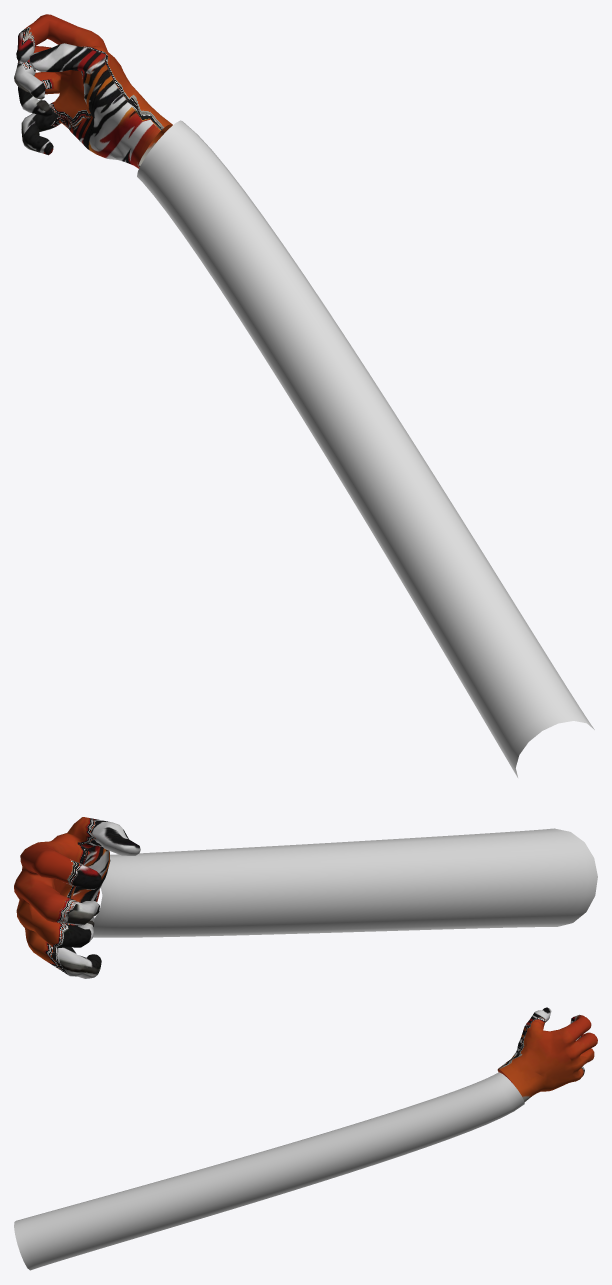
File: fpa_fiveseven.glb
3 views of the same model, one above another, from view 1: azimuth 30°, elevation 25°; view 2: azimuth 150°, elevation 25°; view 3: azimuth 270°, elevation 25° (orthographic). The views are drawn at different scales.
Visible parts, largest first — view 1: arms, hands; view 2: arms, hands; view 3: arms, hands.
Boxes of the visible parts, x1,y1,x2,y2 form: arms: (137,120,594,777); hands: (14,14,172,168); arms: (93,828,597,937); hands: (14,817,140,978); arms: (14,1072,524,1270); hands: (497,1007,597,1101).
Size of the model in its own units: 0.1834 by 0.5201 by 1.12.
1 material, 1 textured.
